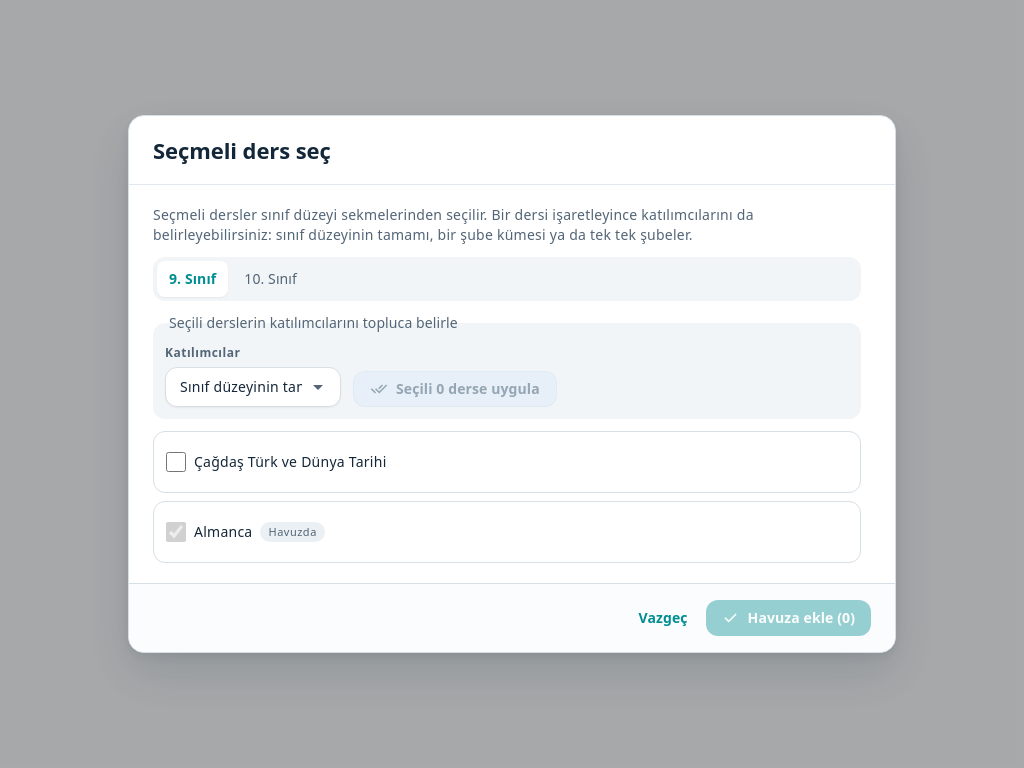
Test: SecmeliDersSecimDialog › atlanan dersler uyarı olarak gösterilir (sessizce düşmez)
The width and height of the screenshot is (1024, 768).
Click the checkbox labelled "Çağdaş Türk ve Dünya Tarihi" at (176, 462), box [166, 452, 186, 472]
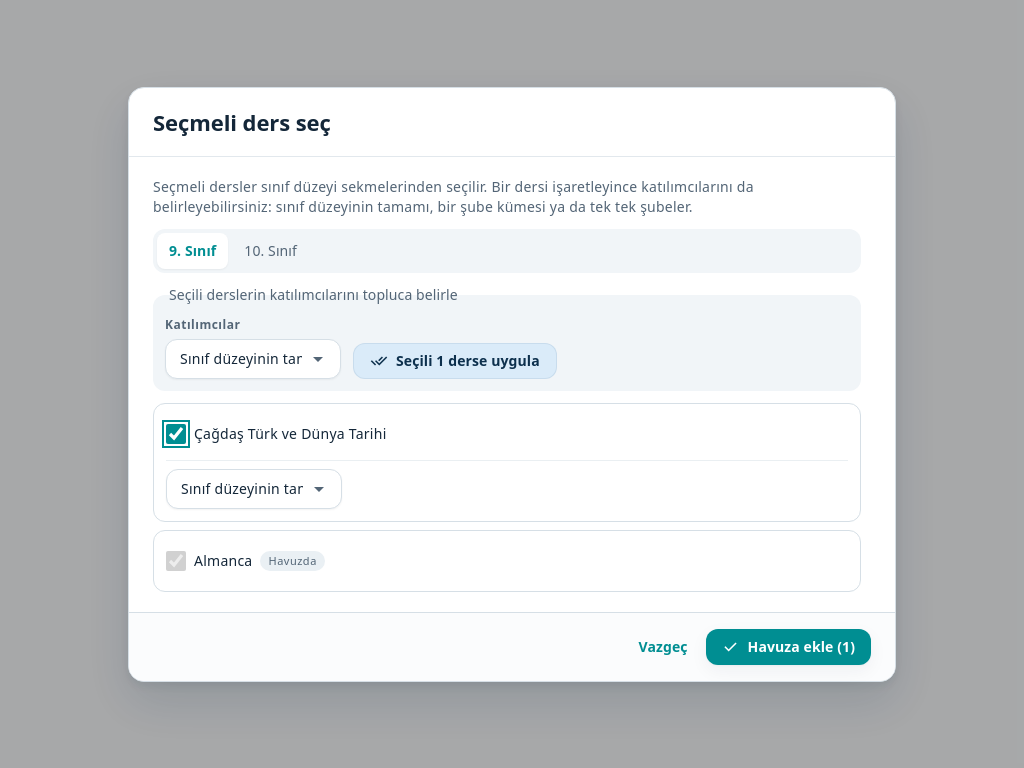
Click the button "Havuza ekle (1)" at (788, 646), box [706, 628, 871, 664]
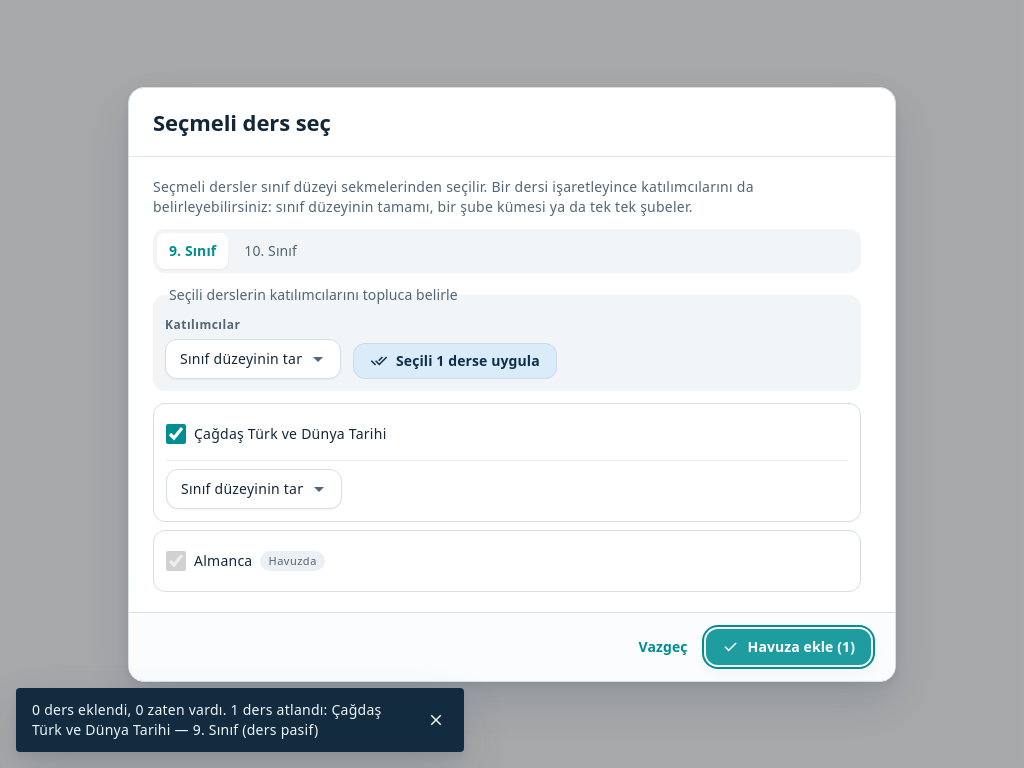
Expected: the text "ders pasif" is shown, [32, 700, 382, 739]
